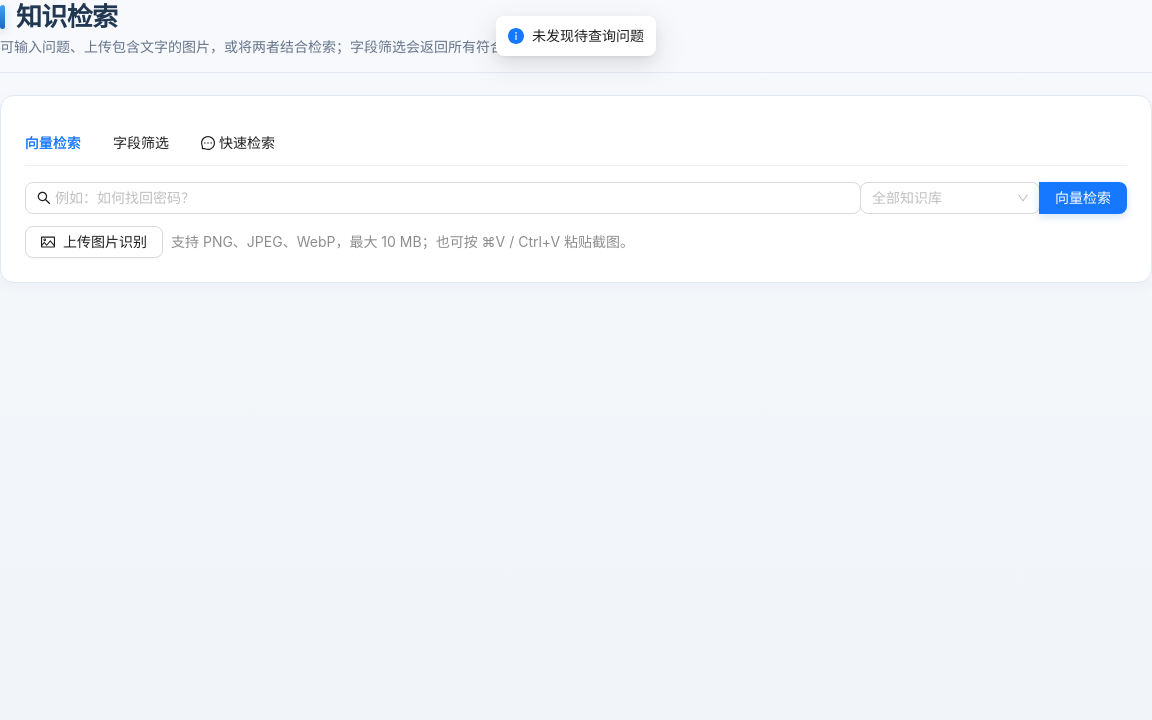
Test: SearchPage OCR › reviews each visible vector result before atomically submitting the immutable Review
Type "密码怎么找回？" into the field with placeholder "例如：如何找回密码？".
click(452, 198); type("密码怎么找回？")  # box 55,187 -> 849,209
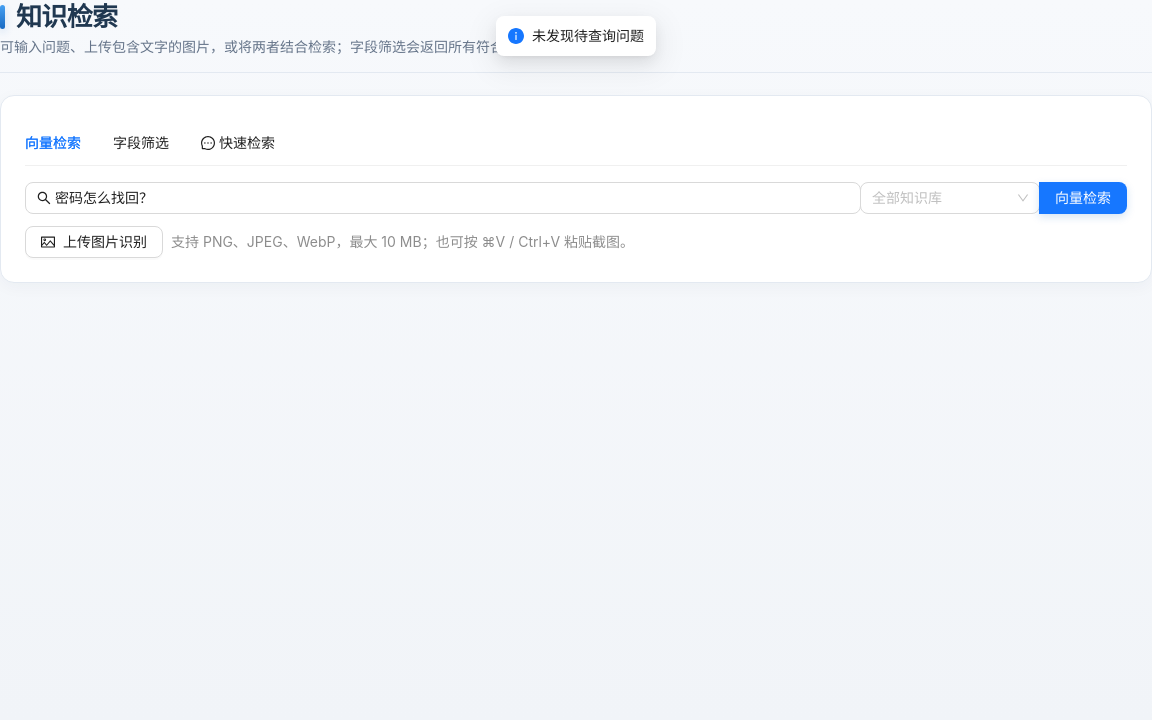
Click the button "向量检索".
click(1083, 198)  # box 1039,182 -> 1127,214
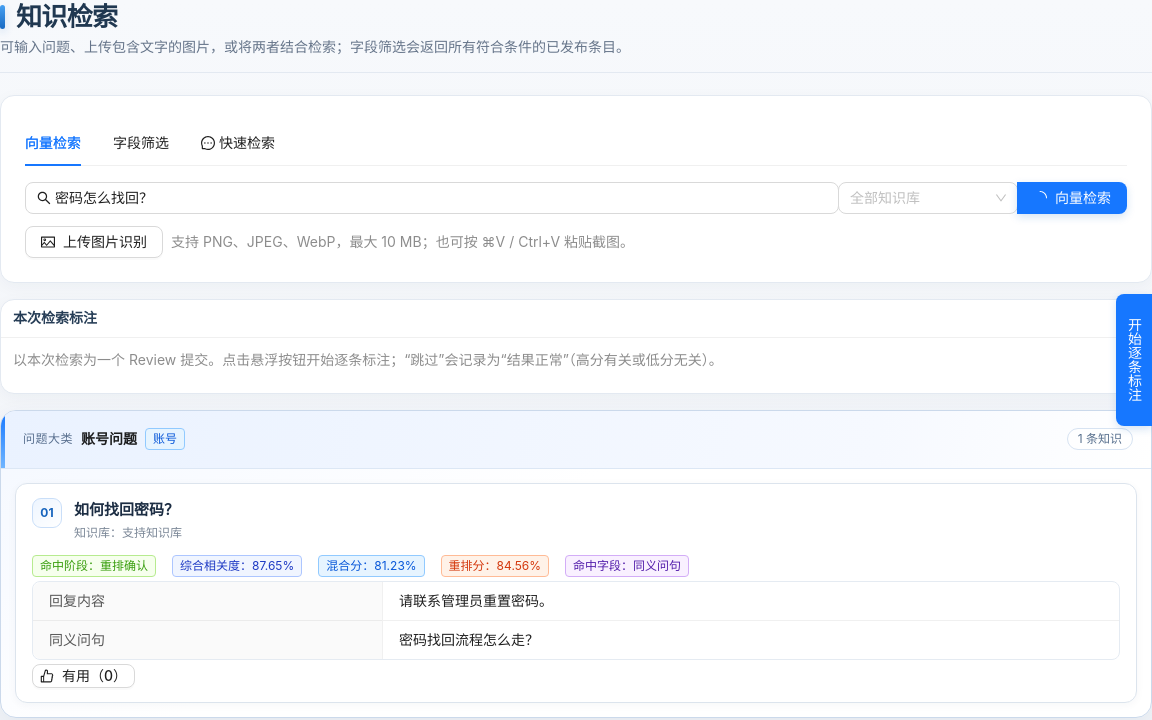
Now the text "本次检索标注" is shown, box 13,309 -> 97,326
Click the button "开始逐条标注".
click(1134, 360)  # box 1116,294 -> 1151,426
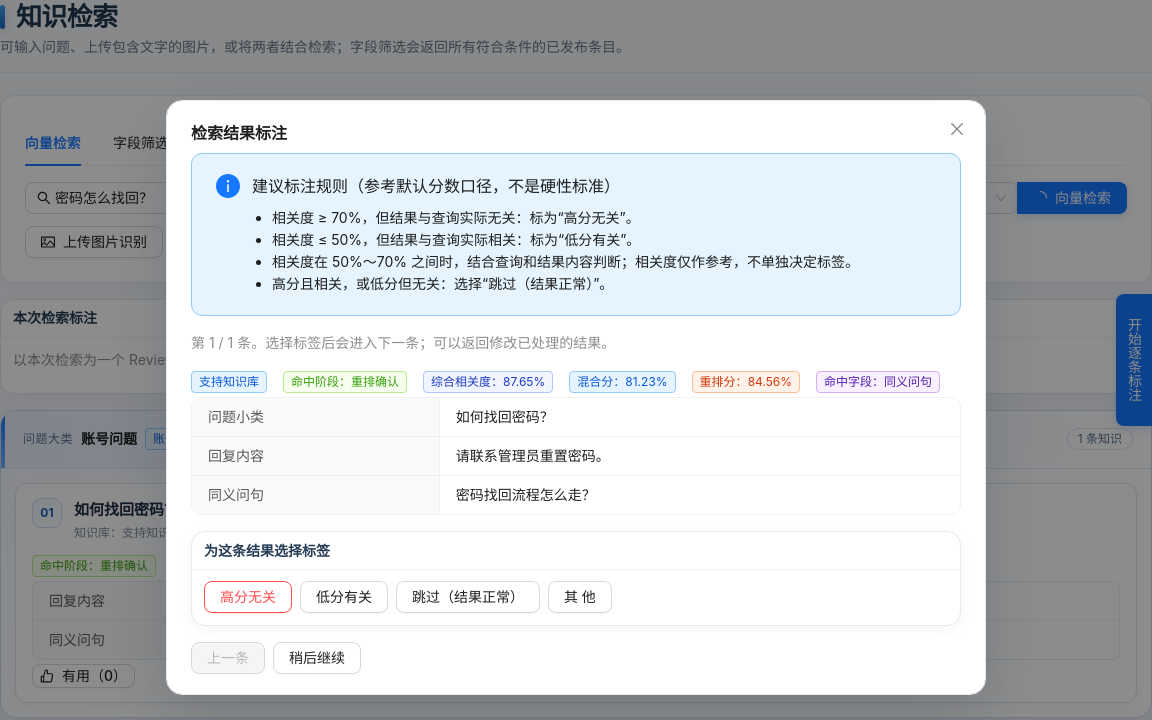
Now the text "第 1 / 1 条。选择标签后会进入下一条；可以返回修改已处理的结果。" is shown, box 191,334 -> 615,351
Click the button "高分无关".
click(248, 597)  # box 204,581 -> 292,613
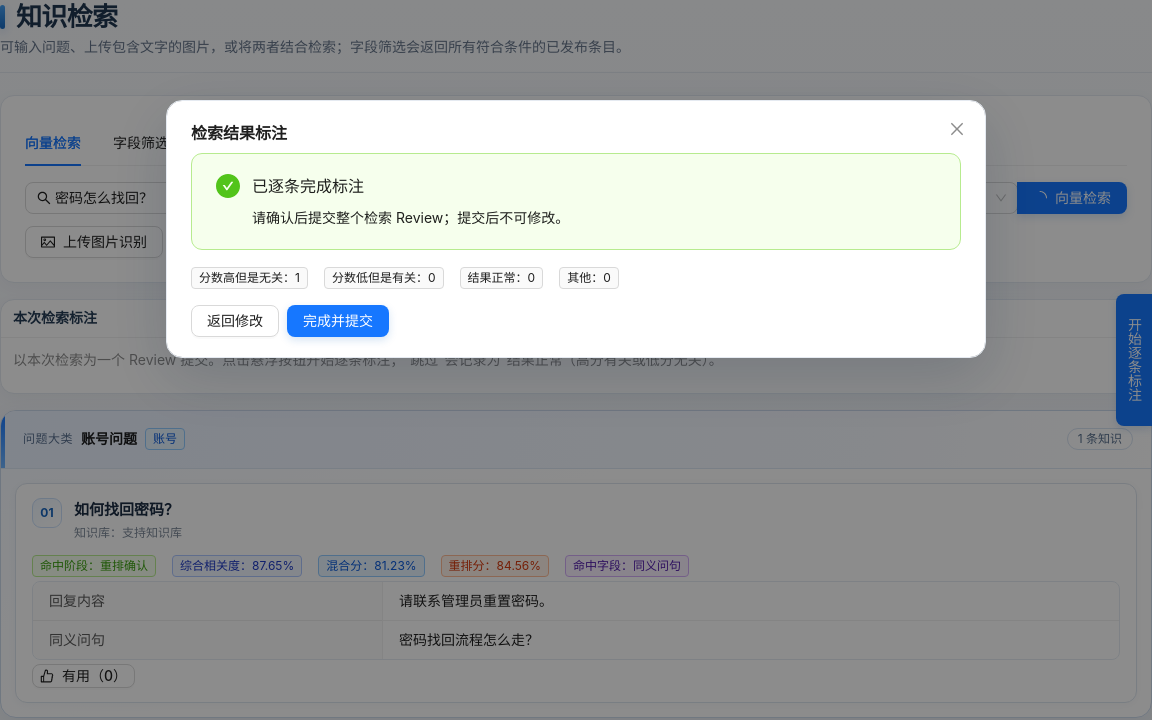
Now the text "已逐条完成标注" is shown, box 252,176 -> 364,196
Click the button "完成并提交".
click(338, 321)  # box 287,305 -> 389,337
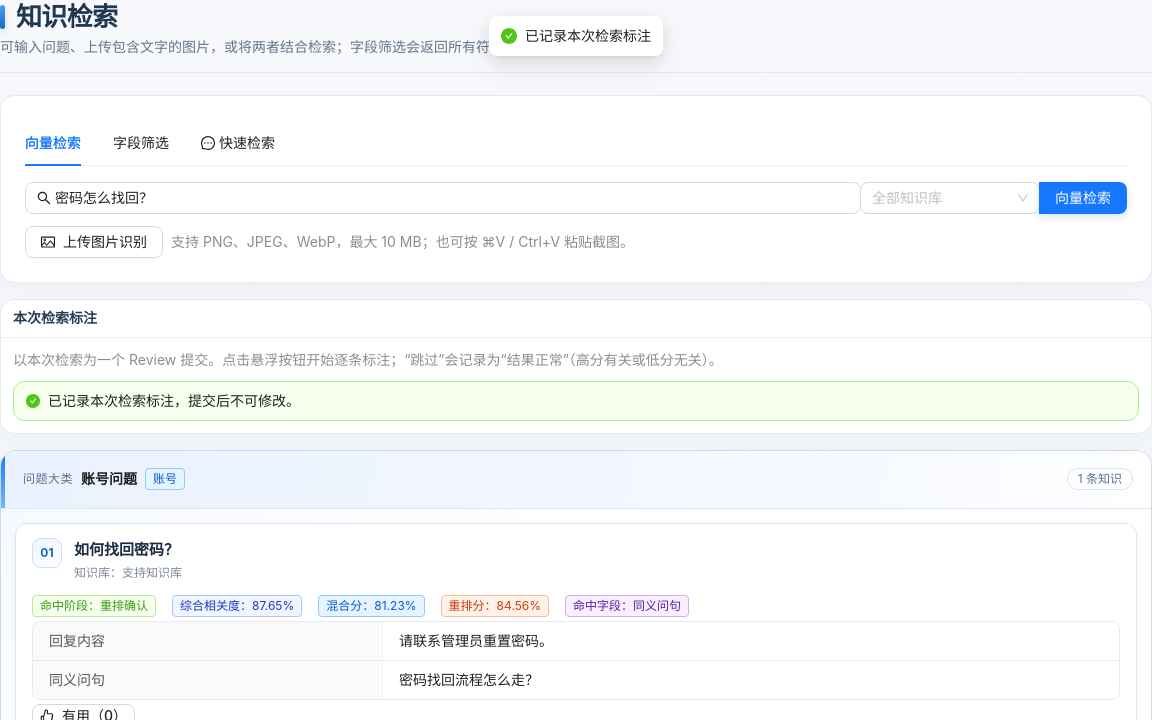
Now the text "已记录本次检索标注，提交后不可修改。" is shown, box 48,392 -> 300,409
